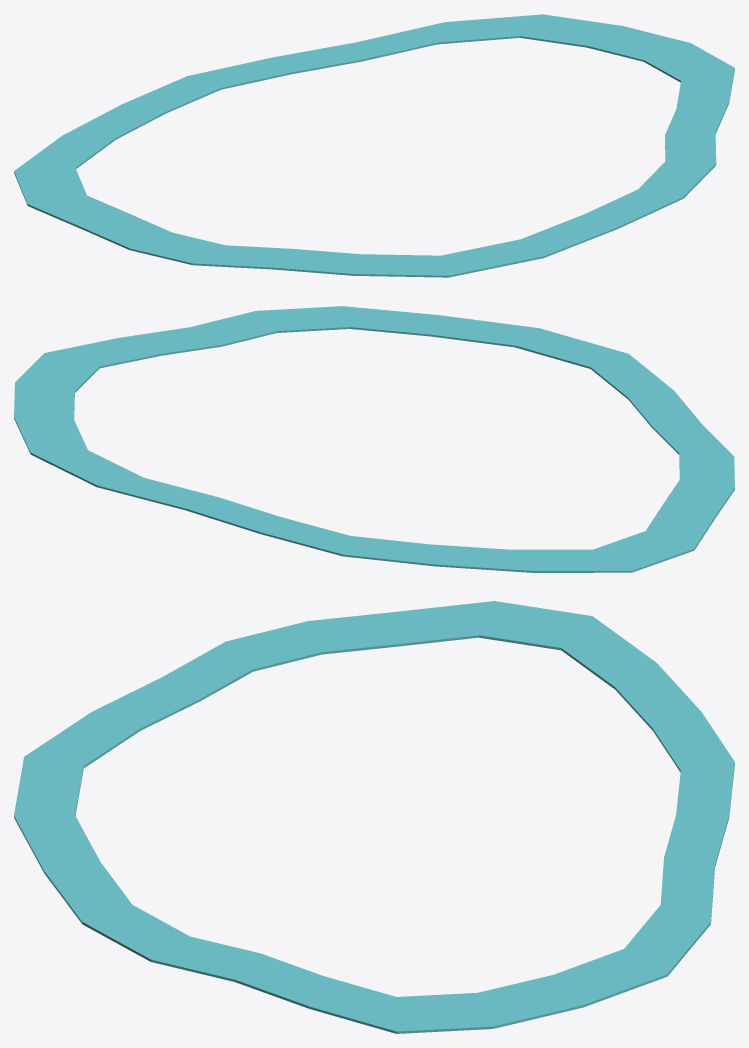
3 views of the same model, one above another, from view 1: azimuth 30°, elevation 25°; view 2: azimuth 150°, elevation 25°; view 3: azimuth 270°, elevation 25° (orthographic). The views are drawn at different scales.
Parts seen in each view (by area): view 1: 瀑底潭_浅水环1.001; view 2: 瀑底潭_浅水环1.001; view 3: 瀑底潭_浅水环1.001.
Part boxes in pixels (x1=…): 瀑底潭_浅水环1.001: x1=14, y1=14, x2=734, y2=277; 瀑底潭_浅水环1.001: x1=14, y1=306, x2=734, y2=572; 瀑底潭_浅水环1.001: x1=14, y1=601, x2=734, y2=1033.
Size of the model in its own units: 1.54 by 0.004 by 1.09.
